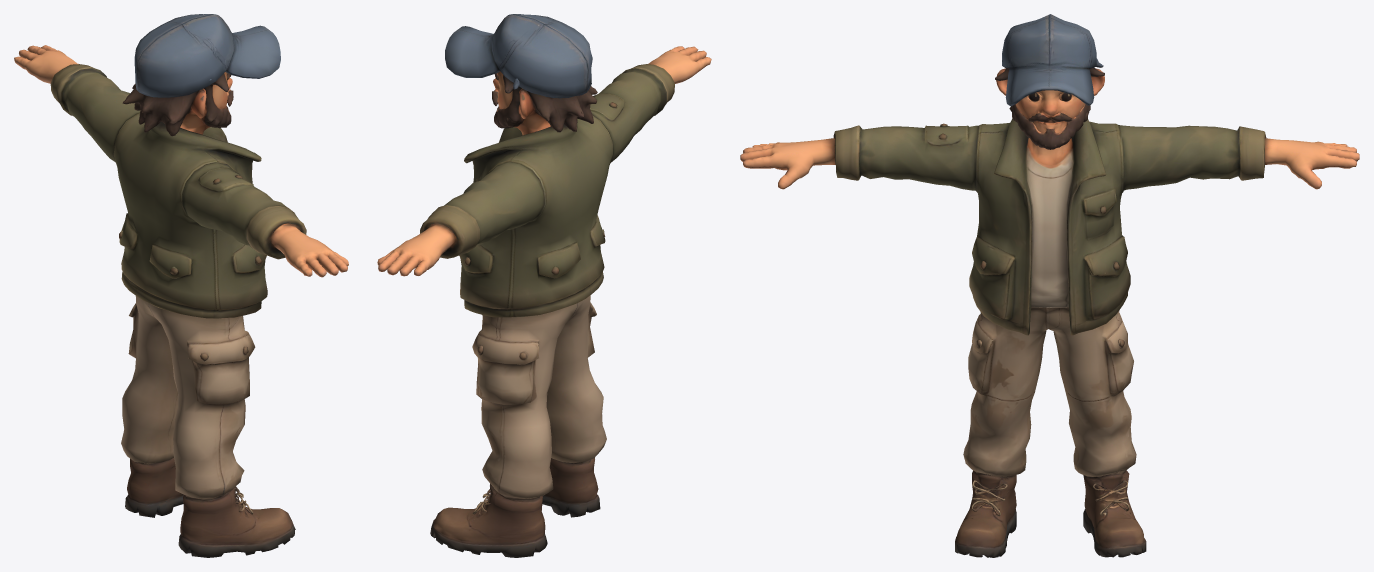
Rendered from character-tpose.glb.
3 views of the same model, side by side, from view 1: azimuth 30°, elevation 25°; view 2: azimuth 150°, elevation 25°; view 3: azimuth 270°, elevation 25° (orthographic).
Parts seen in each view (by area): view 1: tripo_node_397f9e9c-a6cd-48f1-bb09-235a15bb2619; view 2: tripo_node_397f9e9c-a6cd-48f1-bb09-235a15bb2619; view 3: tripo_node_397f9e9c-a6cd-48f1-bb09-235a15bb2619.
Boxes of the visible parts, box(x1,y1,x2,y2) form: tripo_node_397f9e9c-a6cd-48f1-bb09-235a15bb2619: box(14, 14, 348, 557); tripo_node_397f9e9c-a6cd-48f1-bb09-235a15bb2619: box(377, 14, 711, 557); tripo_node_397f9e9c-a6cd-48f1-bb09-235a15bb2619: box(740, 14, 1359, 557).
Size of the model in its own units: 0.2598 by 0.916 by 0.998.
1 material, 1 textured.
